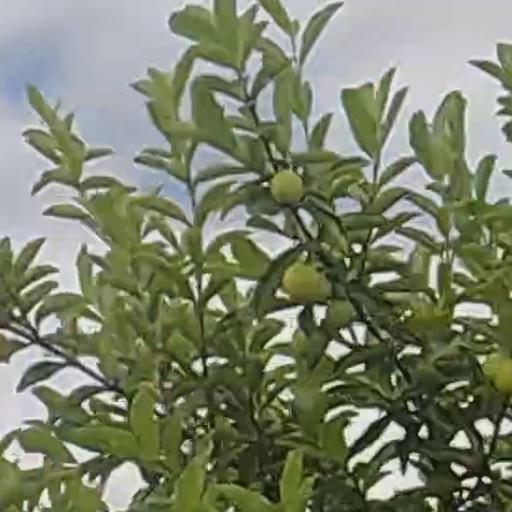acerola: (282, 265, 316, 298), (272, 172, 302, 204)
